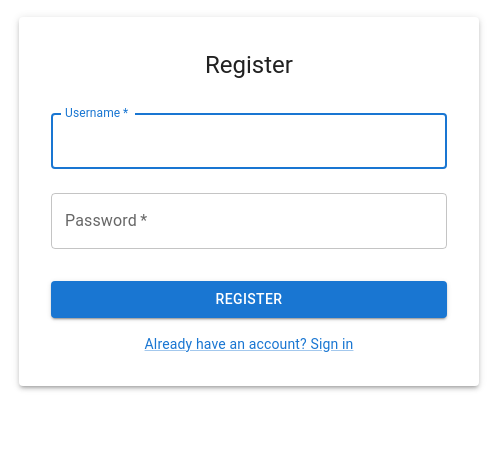
Test: Register Component › handles network error
Type "validuser" into the field labelled "Username *" at coordinates (249, 141), box [51, 113, 447, 169]
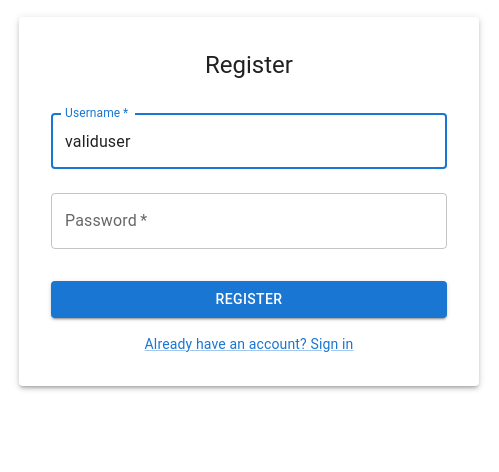
Type "ValidPass1!" into the password field labelled "Password *" at coordinates (249, 221), box [51, 193, 447, 249]
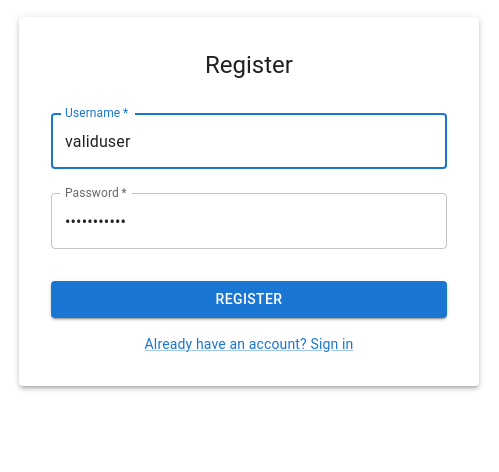
Submit the form from the button "Register", box [51, 281, 447, 318]
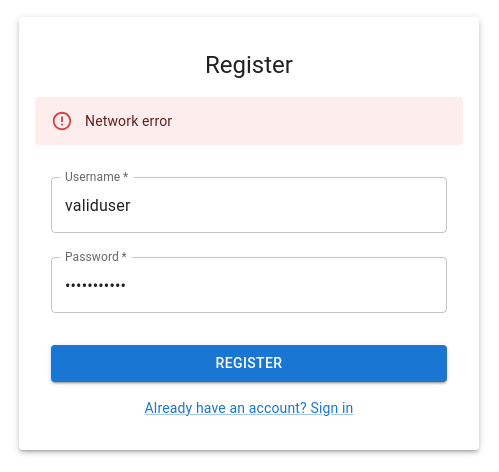
Check: the text "Network error" is shown, box [85, 113, 172, 129]
